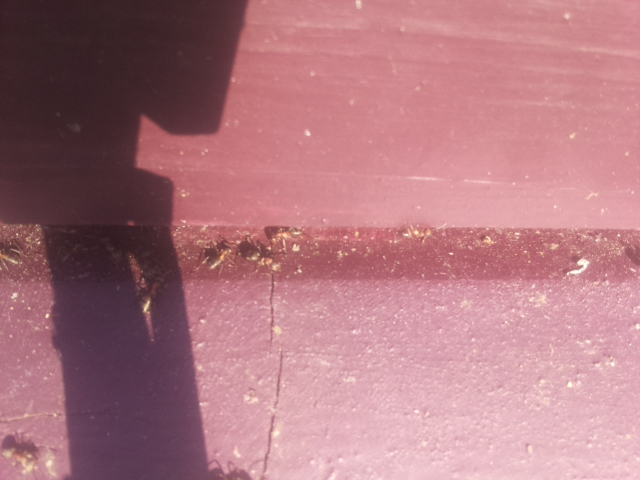ant: (0, 429, 45, 475), (556, 249, 596, 280), (0, 235, 27, 267), (205, 246, 235, 268)
